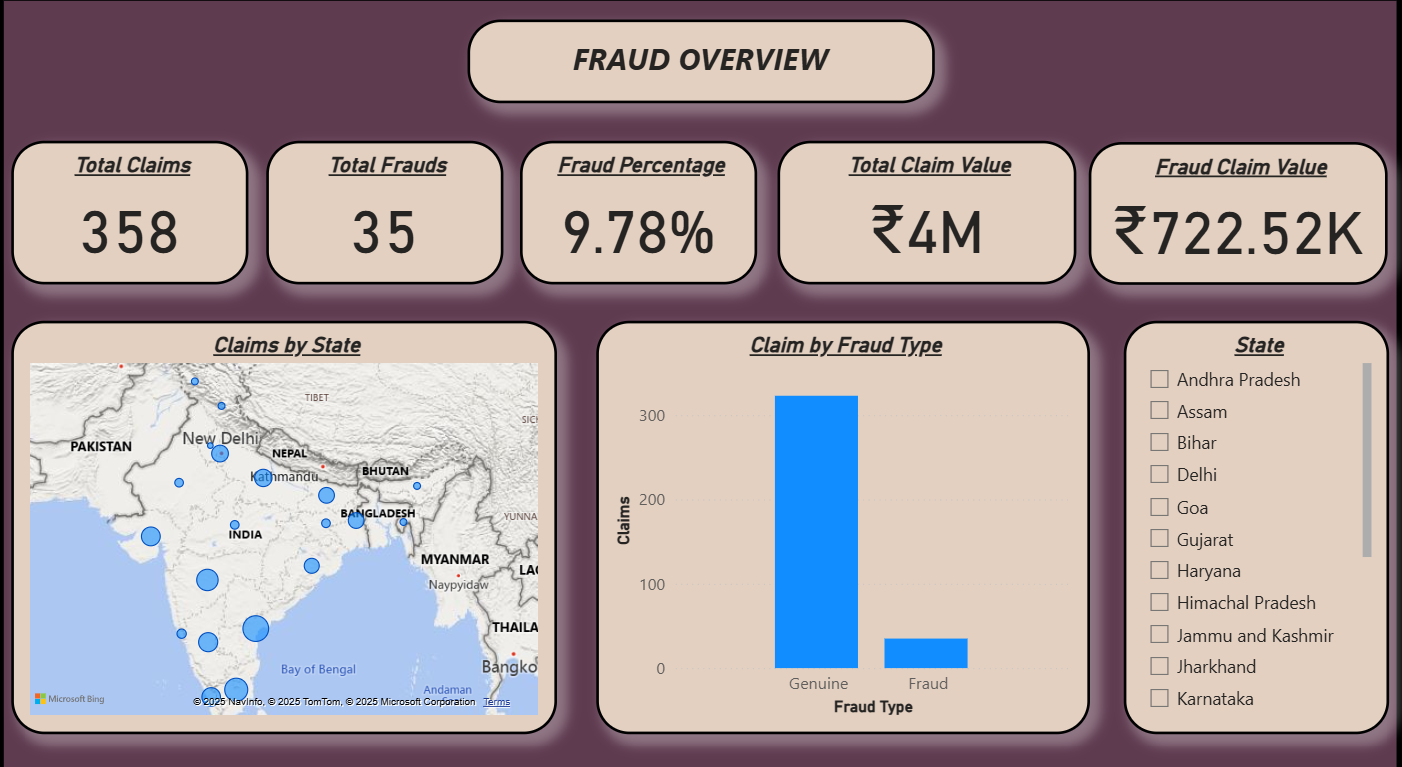

The dashboard page shown, as its layout file describes it:
{"tool":"powerbi","page":{"name":"Fraud Overview","canvas":[1280,720],"ordinal":0},"visuals":[{"type":"card","title":"Total Claims","fields":{"Values":["CountNonNull(warranty claims.Claim_Value)"]},"box":[14.8,135.4,215,130.5],"z":0},{"type":"card","title":"Total Frauds","fields":{"Values":["warranty claims.Fraudulent_Claims"]},"box":[246.2,135.4,215,130.5],"z":1000},{"type":"card","title":"Total Claim Value","fields":{"Values":["Sum(warranty claims.Claim_Value)"]},"box":[710.3,135.4,271.4,130.5],"z":2000},{"type":"card","title":"Fraud Claim Value","fields":{"Values":["warranty claims.fraudclaimvalue"]},"box":[993.5,135.4,271.4,130.5],"z":3000},{"type":"map","title":"Claims by State","fields":{"Category":["warranty claims.State"],"Size":["CountNonNull(warranty claims.Claim_Value)"]},"box":[14.8,298.5,495.3,375.2],"z":4000},{"type":"card","title":"Fraud Percentage","fields":{"Values":["warranty claims.%Fraud_Claims"]},"box":[476,135.4,215,130.5],"z":5000},{"type":"slicer","title":"State","fields":{"Values":["warranty claims.State"]},"box":[1024.7,298.5,240.2,375.2],"z":6000},{"type":"columnChart","title":"Claim by Fraud Type","fields":{"Y":["CountNonNull(warranty claims.Claim_Value)"],"Category":["warranty claims.Fraud - Copy"]},"box":[545.7,298.5,447.8,375.2],"z":7000},{"type":"textbox","box":[428.6,25.2,424.1,75.6],"z":8000}]}

Visuals, with their boxes in screenshot pixels (x1, y1, x2, y2), scaled from the page's 1280x720 canvas onto the 1402x767 screenshot:
"Total Claims" card: x1=16 y1=144 x2=252 y2=283
"Total Frauds" card: x1=270 y1=144 x2=505 y2=283
"Total Claim Value" card: x1=778 y1=144 x2=1075 y2=283
"Fraud Claim Value" card: x1=1088 y1=144 x2=1385 y2=283
"Claims by State" map: x1=16 y1=318 x2=559 y2=718
"Fraud Percentage" card: x1=521 y1=144 x2=757 y2=283
"State" slicer: x1=1122 y1=318 x2=1385 y2=718
"Claim by Fraud Type" columnChart: x1=598 y1=318 x2=1088 y2=718
textbox: x1=469 y1=27 x2=934 y2=107
